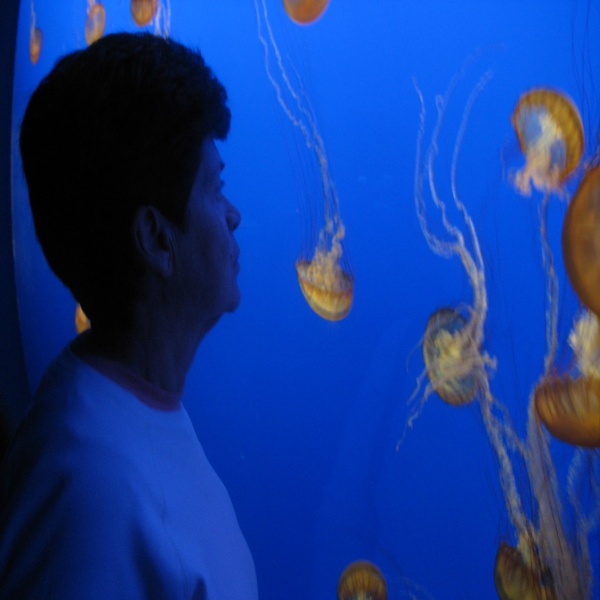Jellyfish: (472, 0, 599, 599), (411, 87, 512, 454), (252, 0, 354, 320), (338, 562, 415, 599), (25, 1, 45, 68), (131, 0, 173, 31), (81, 0, 107, 43), (281, 0, 327, 23)
